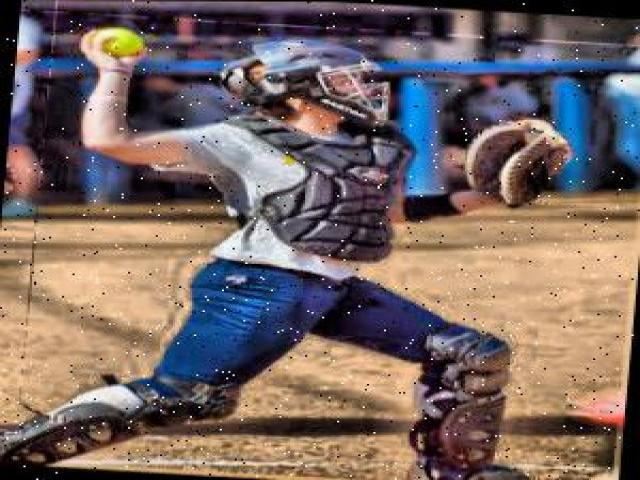tennis-ball: (95, 27, 145, 56)
